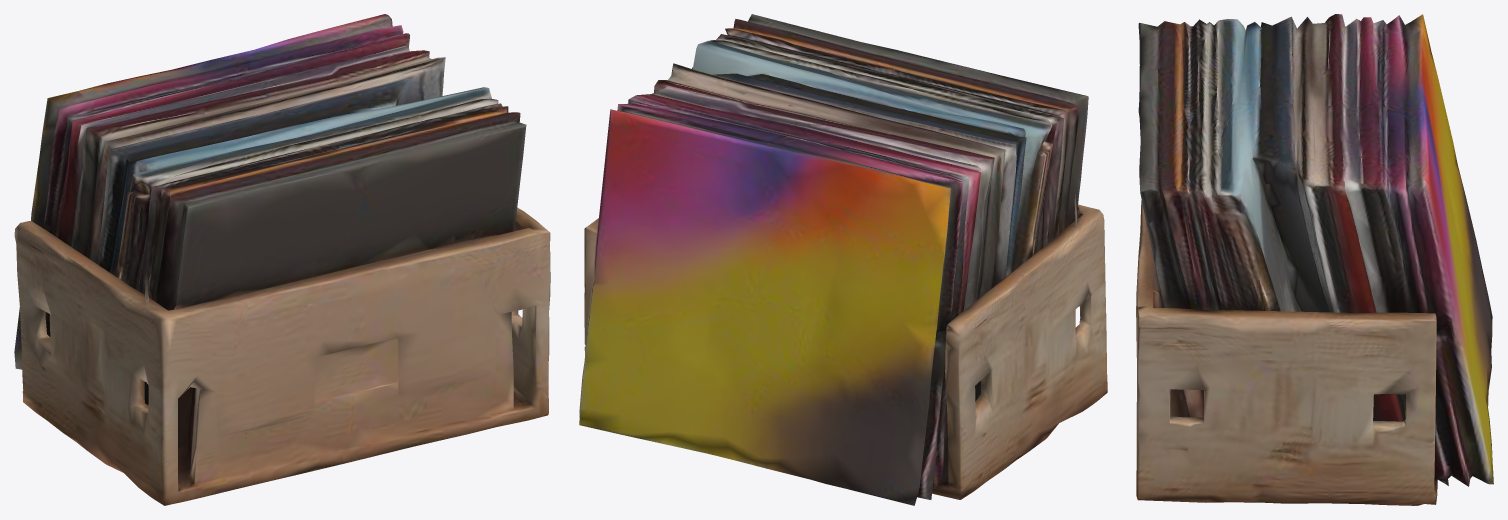
File: vinylcrate-v1.glb
3 views of the same model, side by side, from view 1: azimuth 30°, elevation 25°; view 2: azimuth 150°, elevation 25°; view 3: azimuth 270°, elevation 25° (orthographic). The views are drawn at different scales.
Visible parts, largest first — view 1: prop__vinylcrate; view 2: prop__vinylcrate; view 3: prop__vinylcrate.
Boxes of the visible parts, x1,y1,x2,y2 form: prop__vinylcrate: (14,14,550,505); prop__vinylcrate: (579,14,1107,505); prop__vinylcrate: (1136,14,1493,505).
Bounding box in the file's own units: 0.4729 × 0.36 × 0.3732.
1 material, 1 textured.
